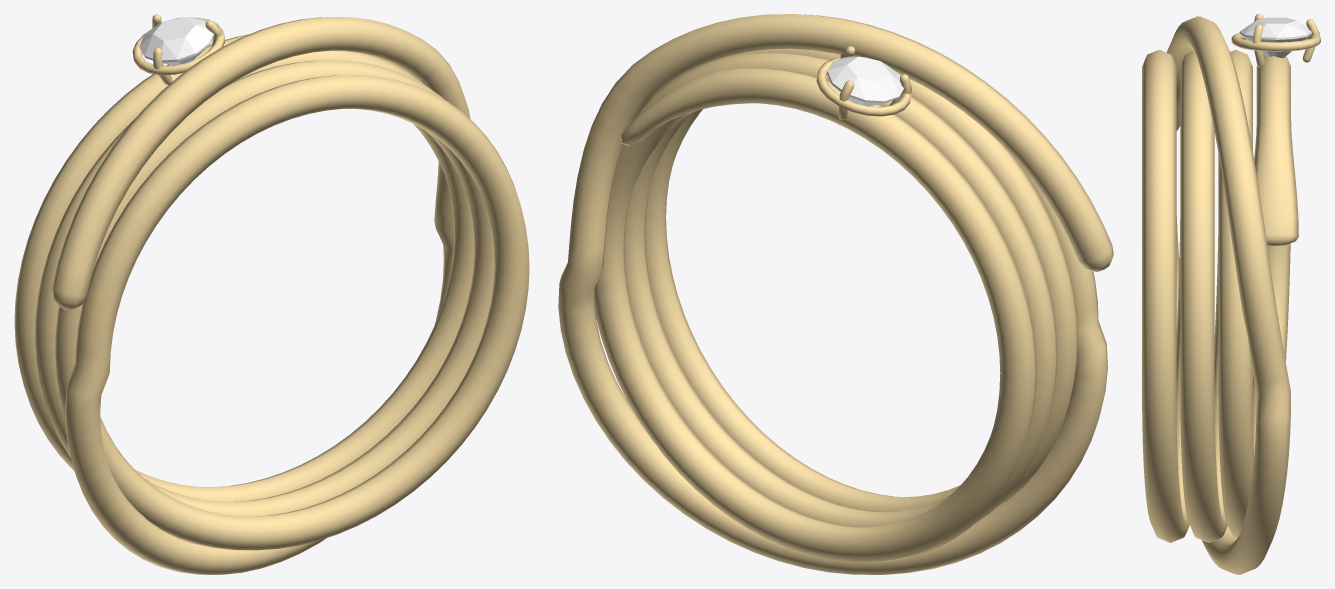
File: Anillo_AlambreCruzado.fbx
3 views of the same model, side by side, from view 1: azimuth 30°, elevation 25°; view 2: azimuth 150°, elevation 25°; view 3: azimuth 270°, elevation 25° (orthographic). The views are drawn at different scales.
Parts seen in each view (by area): view 1: Anillo_AlambreCruzado; view 2: Anillo_AlambreCruzado; view 3: Anillo_AlambreCruzado.
Boxes of the visible parts, <box> form: Anillo_AlambreCruzado: <box>14,14,529,574</box>; Anillo_AlambreCruzado: <box>558,14,1113,574</box>; Anillo_AlambreCruzado: <box>1142,14,1320,574</box>.
Bounding box in the file's own units: 0.0222 × 0.0238 × 0.00758.
